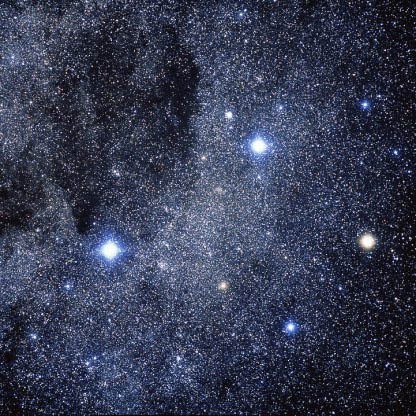Southern Cross: (82, 222, 136, 274), (243, 125, 280, 171), (352, 222, 384, 255), (278, 311, 306, 339)
